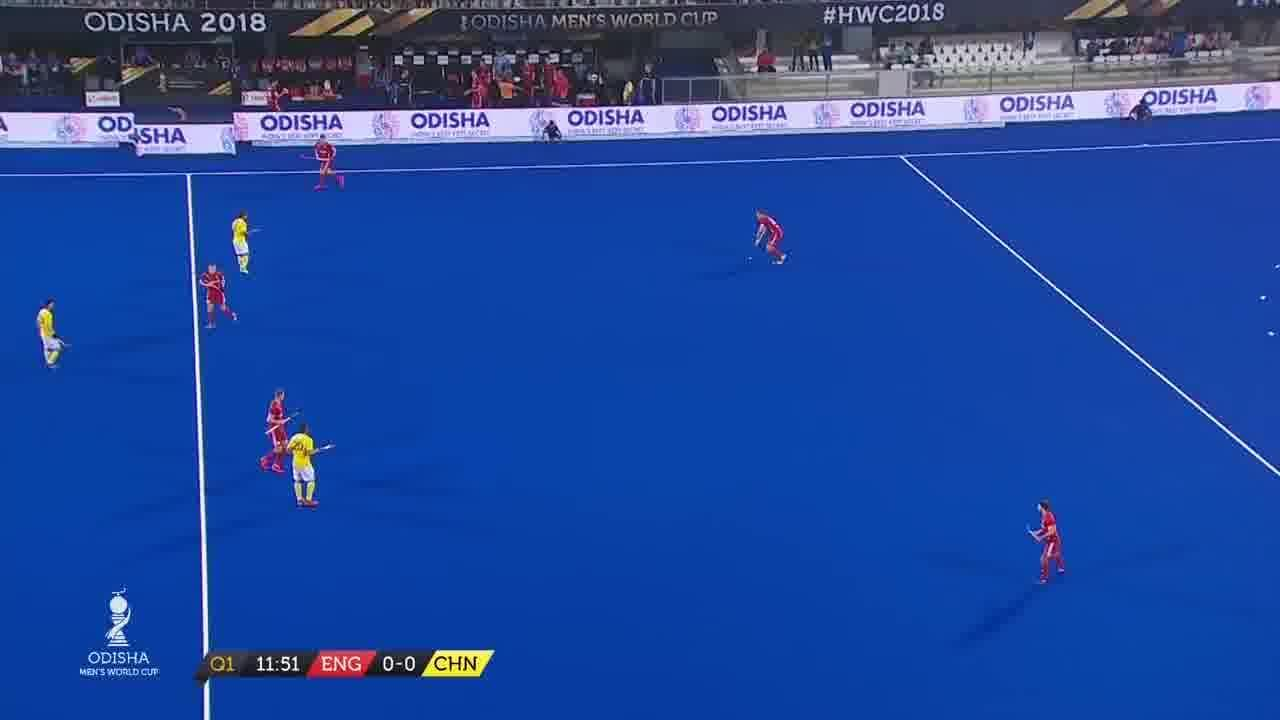ball: (744, 253, 759, 266)
